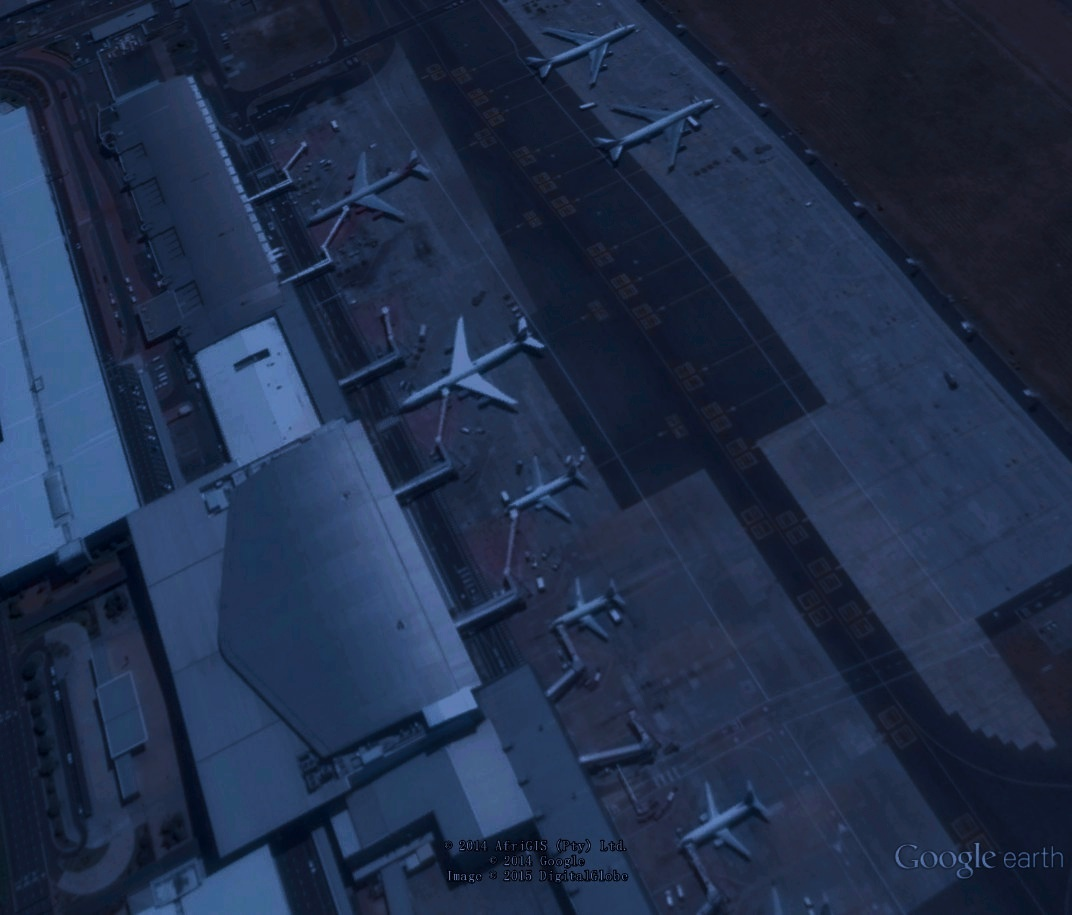aircraft: (388, 309, 553, 414), (298, 142, 437, 228), (589, 94, 720, 178), (672, 777, 777, 867), (525, 16, 643, 91), (502, 445, 597, 528), (544, 571, 631, 646)
